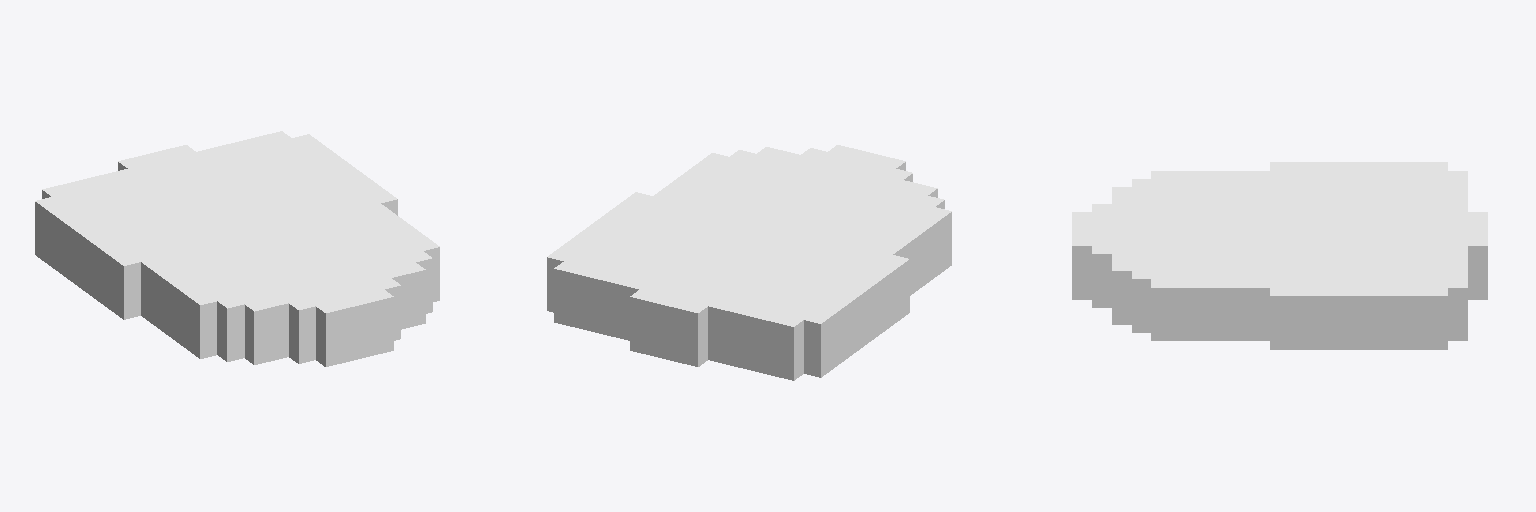
The model's file is bouclier.obj.
3 views of the same model, side by side, from view 1: azimuth 30°, elevation 25°; view 2: azimuth 150°, elevation 25°; view 3: azimuth 270°, elevation 25° (orthographic).
Parts seen in each view (by area): view 1: object 1; view 2: object 1; view 3: object 1.
Boxes of the visible parts, x1=… form: object 1: x1=35, y1=131, x2=439, y2=366; object 1: x1=547, y1=145, x2=951, y2=380; object 1: x1=1072, y1=162, x2=1487, y2=349.
Bounding box in the file's own units: 1.6 × 0.3 × 2.1.